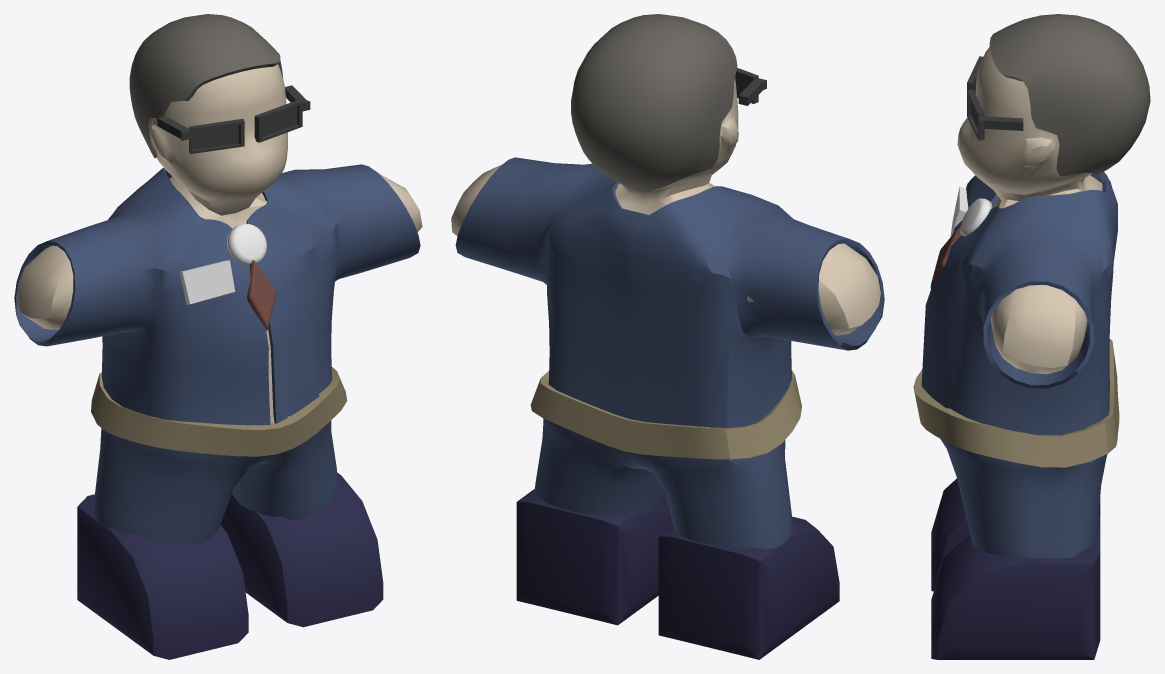
File: SecurityModel2.fbx
3 views of the same model, side by side, from view 1: azimuth 30°, elevation 25°; view 2: azimuth 150°, elevation 25°; view 3: azimuth 270°, elevation 25° (orthographic). The views are drawn at different scales.
Visible parts, largest first — view 1: Cube.017, Cube.022, Cube, Cube.018, Cube.001, Cube.021, Cube.020, Plane.005, Plane.006, Circle.001, Plane.003; view 2: Cube.017, Cube.021, Cube.022, Cube, Cube.001, Cube.020, Cube.018, Plane.005; view 3: Cube.017, Cube.001, Cube.021, Cube.018, Cube.022, Cube.020, Cube, Plane.005, Circle.001, Plane.003, Plane.006.
Boxes of the visible parts, left/top/right/bottom form: Cube.017: left=14, top=164, right=420, bottom=425; Cube.022: left=93, top=420, right=337, bottom=545; Cube: left=77, top=494, right=248, bottom=659; Cube.018: left=17, top=64, right=422, bottom=422; Cube.001: left=220, top=473, right=383, bottom=627; Cube.021: left=129, top=14, right=283, bottom=158; Cube.020: left=91, top=367, right=347, bottom=456; Plane.005: left=157, top=85, right=310, bottom=153; Plane.006: left=179, top=260, right=235, bottom=304; Circle.001: left=227, top=223, right=266, bottom=264; Plane.003: left=247, top=260, right=275, bottom=330; Cube.017: left=455, top=157, right=884, bottom=428; Cube.021: left=571, top=14, right=737, bottom=191; Cube.022: left=534, top=418, right=792, bottom=549; Cube: left=658, top=516, right=839, bottom=659; Cube.001: left=516, top=489, right=673, bottom=625; Cube.020: left=530, top=370, right=801, bottom=459; Cube.018: left=451, top=77, right=880, bottom=335; Plane.005: left=735, top=67, right=766, bottom=105; Cube.017: left=921, top=172, right=1117, bottom=435; Cube.001: left=931, top=516, right=1100, bottom=659; Cube.021: left=989, top=14, right=1150, bottom=176; Cube.018: left=926, top=47, right=1102, bottom=392; Cube.022: left=940, top=439, right=1107, bottom=558; Cube.020: left=913, top=339, right=1119, bottom=467; Cube: left=931, top=478, right=1100, bottom=591; Plane.005: left=967, top=56, right=1023, bottom=140; Circle.001: left=960, top=198, right=992, bottom=236; Plane.003: left=930, top=228, right=961, bottom=289; Plane.006: left=950, top=186, right=968, bottom=236.
Size of the model in its own units: 161 by 226 by 83.07.
